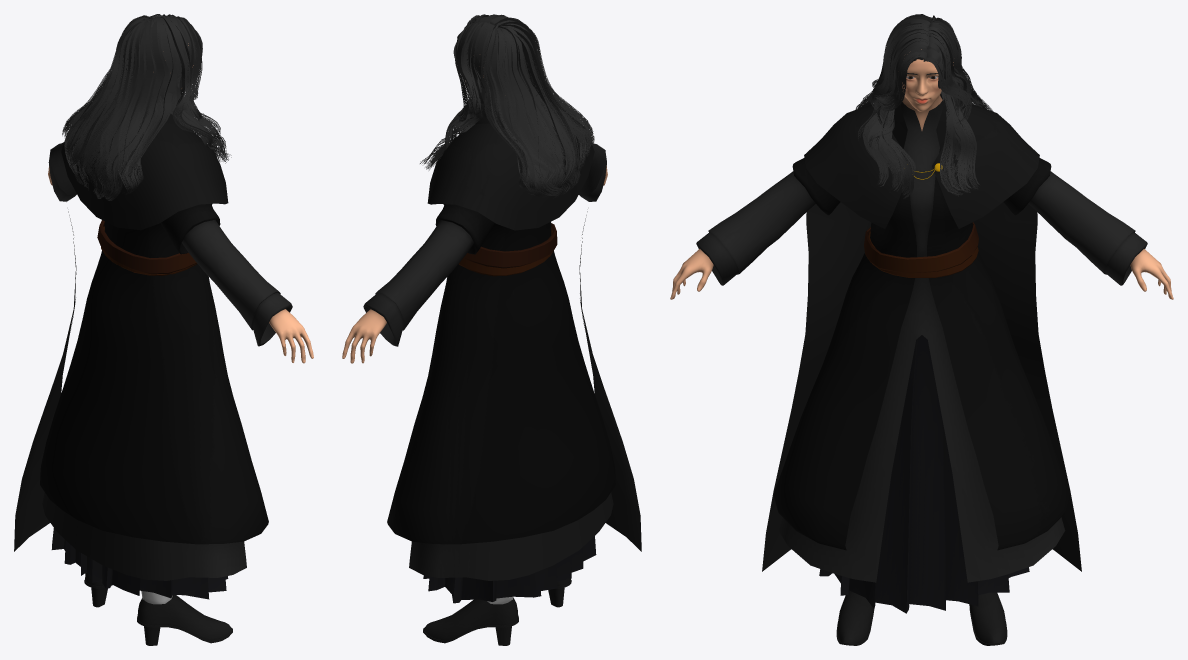
File: uploads_files_5657338_Female_Teacher.obj
The picture shows the model from 3 angles, left to right: view 1: azimuth 30°, elevation 25°; view 2: azimuth 150°, elevation 25°; view 3: azimuth 270°, elevation 25°; orthographic projection.
Visible parts, largest first — view 1: Outfit, Hair, Shoes, Body; view 2: Outfit, Hair, Shoes, Body; view 3: Outfit, Hair, Body, Shoes.
Boxes of the visible parts, x1=… form: Outfit: x1=14, y1=104, x2=292, y2=599; Hair: x1=62, y1=14, x2=231, y2=200; Shoes: x1=84, y1=573, x2=232, y2=645; Body: x1=48, y1=43, x2=313, y2=363; Outfit: x1=363, y1=102, x2=641, y2=603; Hair: x1=420, y1=14, x2=594, y2=197; Shoes: x1=423, y1=578, x2=571, y2=645; Body: x1=342, y1=75, x2=607, y2=363; Outfit: x1=696, y1=87, x2=1147, y2=613; Hair: x1=855, y1=14, x2=993, y2=198; Body: x1=670, y1=49, x2=1173, y2=299; Shoes: x1=836, y1=590, x2=1007, y2=645.
Bounding box in the file's own units: 0.5543 × 1.71 × 1.27.
